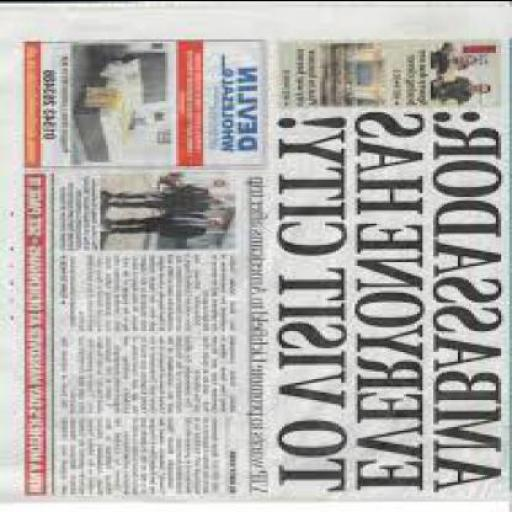paper: (2, 1, 511, 501)
